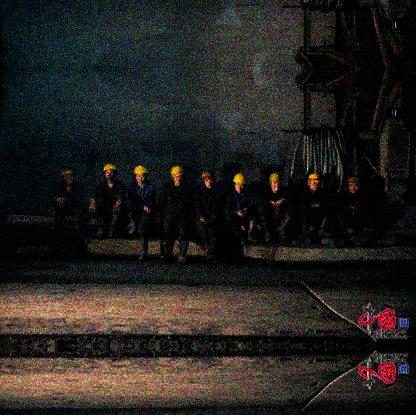helmet: (102, 162, 119, 184), (133, 165, 150, 186), (232, 172, 248, 194), (170, 164, 185, 187), (345, 175, 361, 195), (306, 171, 321, 191), (268, 173, 283, 193), (200, 168, 214, 188), (60, 167, 76, 183)
